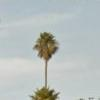Palm tree: (30, 21, 62, 100)
